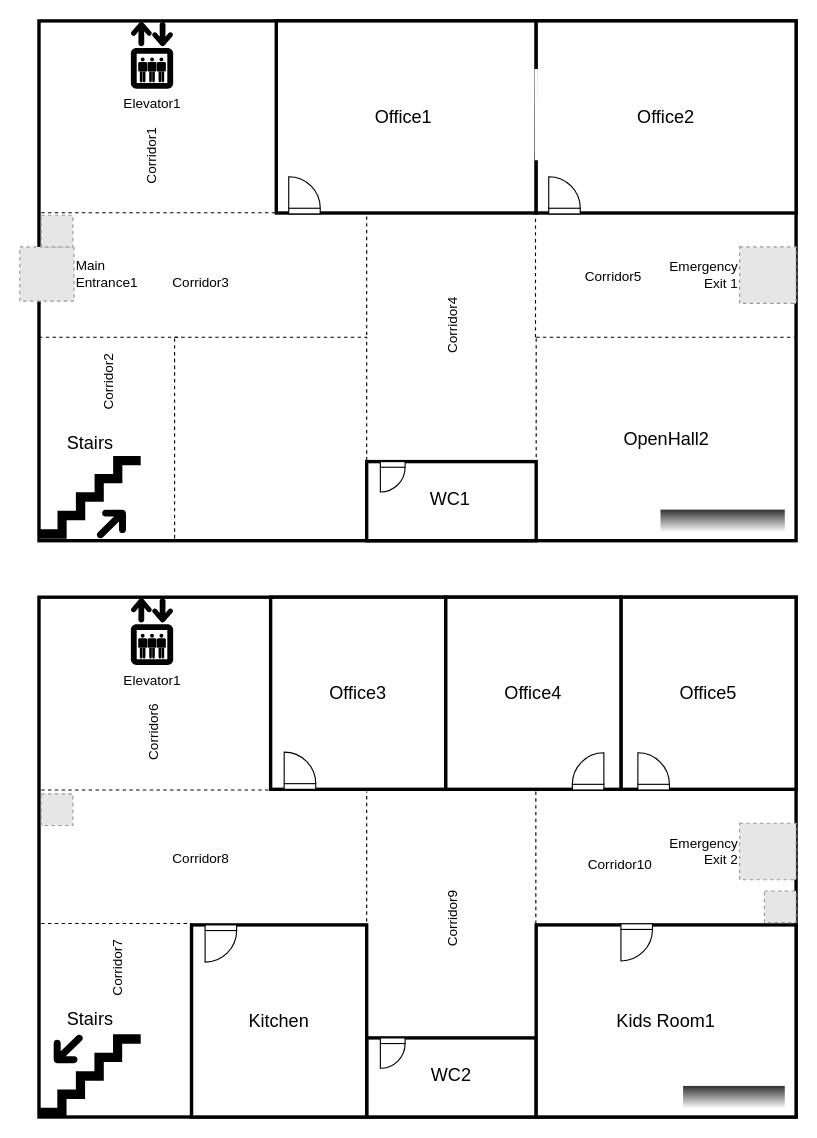
Image size: 817x1138. Some labels were removed from this diagram. Grey dashed boxes stand in for pictures. Here are the shapes that lost their labels. From the top down, the centre of each, then its label:
At [270,438]: "OpenHall1".
At [722,520]: "Ground Floor".
At [733,1096]: "First Floor".
